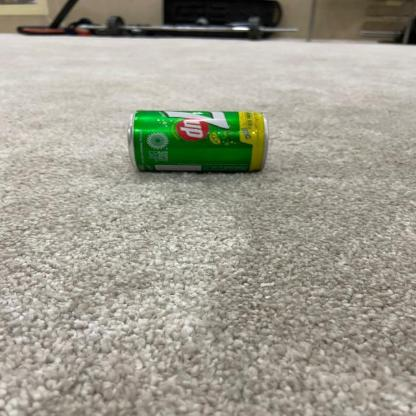Can: (130, 102, 270, 176)
